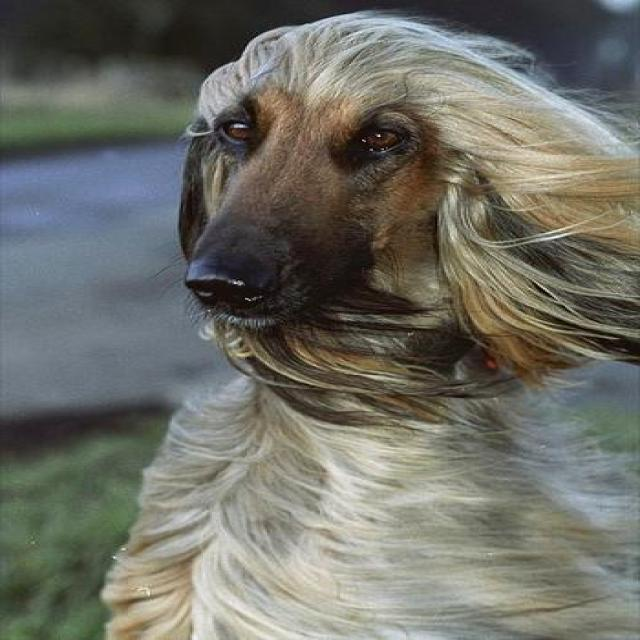afghan_hound: (97, 10, 640, 638)
